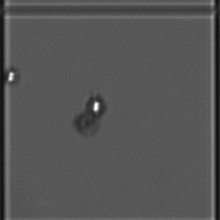Dead Cell: (72, 111, 103, 139)
Living Cell: (84, 91, 113, 117), (4, 63, 24, 89)
